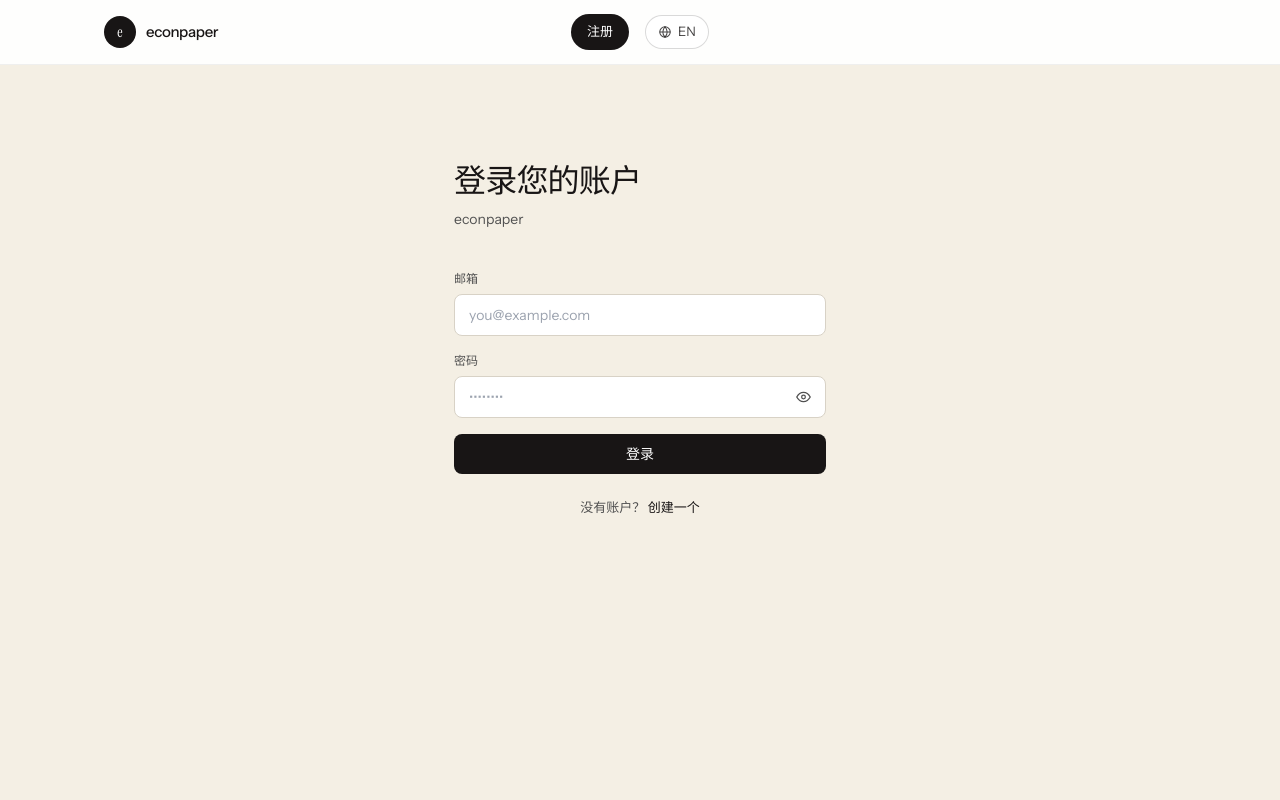
it: LoginPage › shows error message when login fails
In the field labelled "邮箱": (640, 315) x1=454 y1=294 x2=826 y2=336, type "test@example.com"
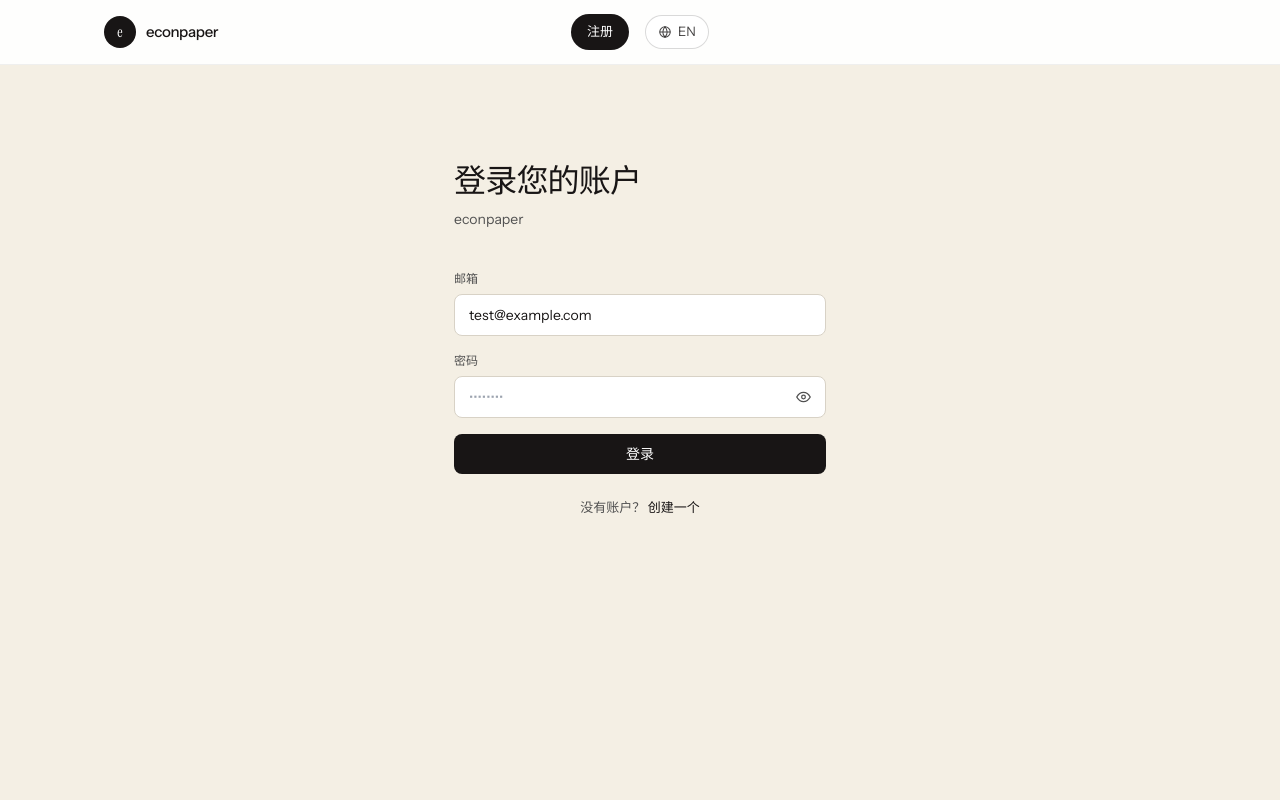
In the password field labelled "密码": (640, 397) x1=454 y1=376 x2=826 y2=418, type "wrong"
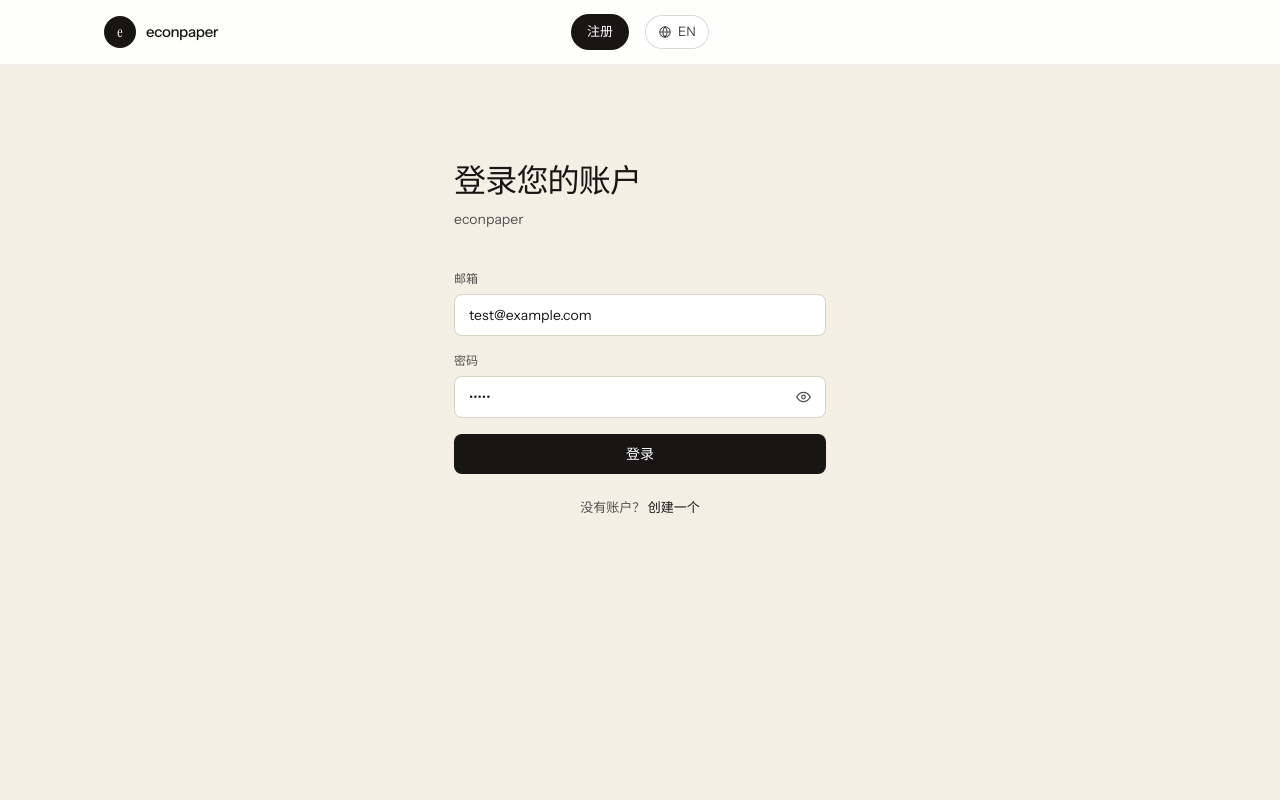
Click the button "登录": (640, 454) x1=454 y1=434 x2=826 y2=474
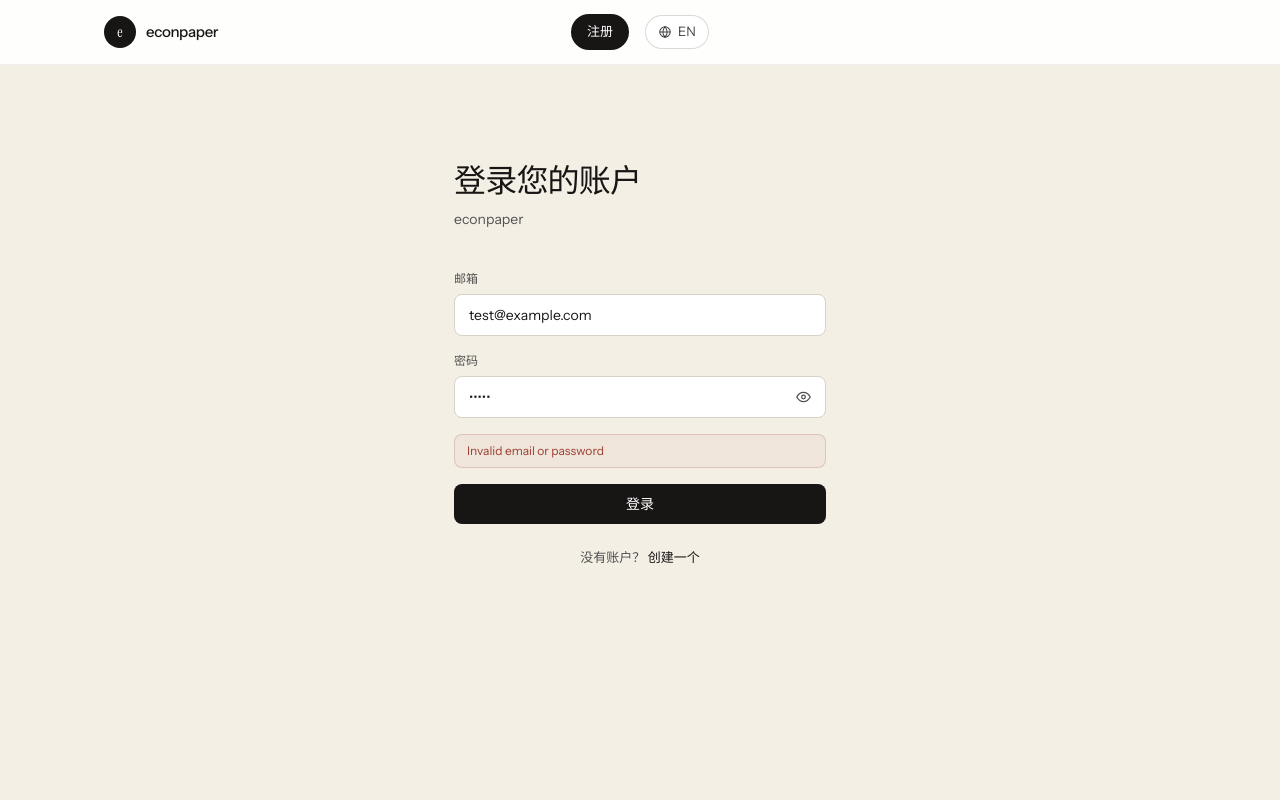
Now the text "Invalid email or password" is shown, box x1=454 y1=434 x2=826 y2=468
